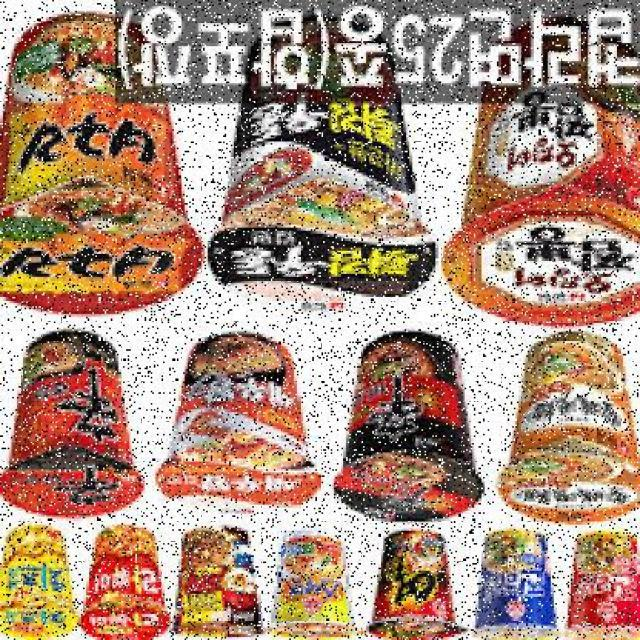Miscellaneous: (212, 23, 436, 328), (0, 18, 200, 330), (452, 12, 640, 334), (149, 333, 325, 527), (332, 334, 490, 532), (501, 334, 640, 530), (0, 346, 138, 524), (163, 521, 259, 640), (464, 531, 568, 640), (363, 527, 461, 640), (268, 521, 357, 640), (83, 524, 167, 640), (0, 531, 78, 640), (571, 534, 640, 640)
